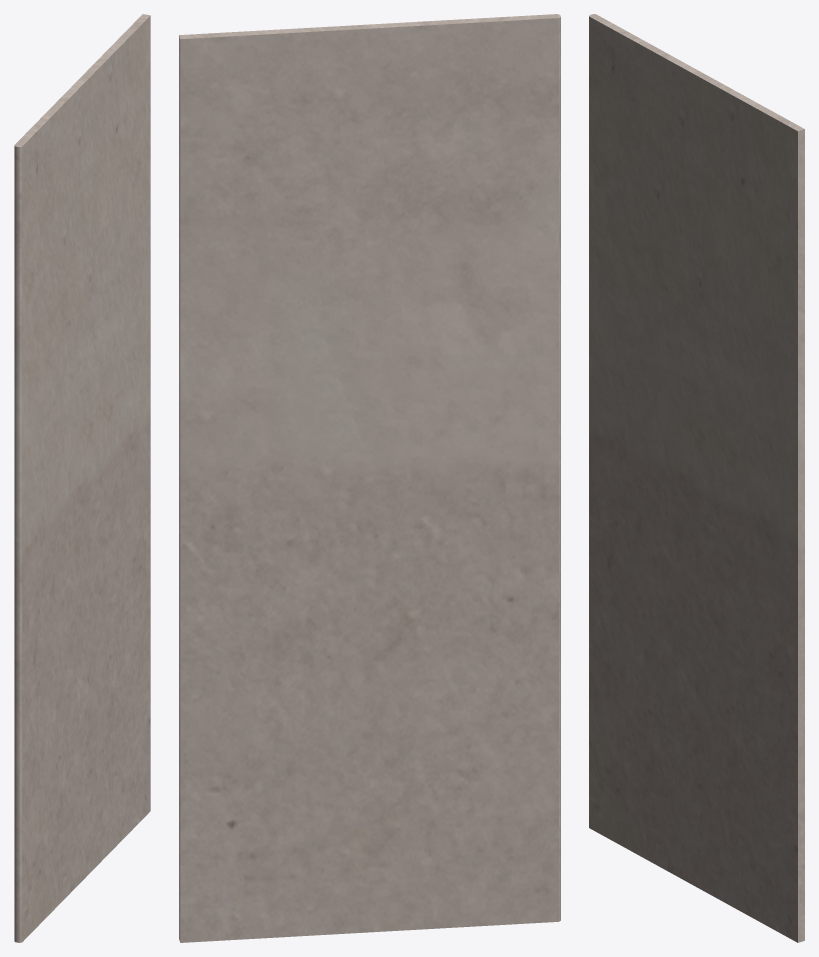
File: MeshBox_20_FlapInner_2_4.obj
3 renders of one model, left to right at view 1: azimuth 30°, elevation 25°; view 2: azimuth 150°, elevation 25°; view 3: azimuth 270°, elevation 25°, orthographic. The views are drawn at different scales.
Visible parts, largest first — view 1: Box_20_FlapInner_2; view 2: Box_20_FlapInner_2; view 3: Box_20_FlapInner_2.
Part boxes in pixels (box(x1,y1,x2,y2)): Box_20_FlapInner_2: box(14, 14, 150, 942); Box_20_FlapInner_2: box(179, 14, 560, 942); Box_20_FlapInner_2: box(589, 14, 804, 942).
Bounding box in the file's own units: 0.0709 × 0.2287 × 0.0551.
1 material, 1 textured.
